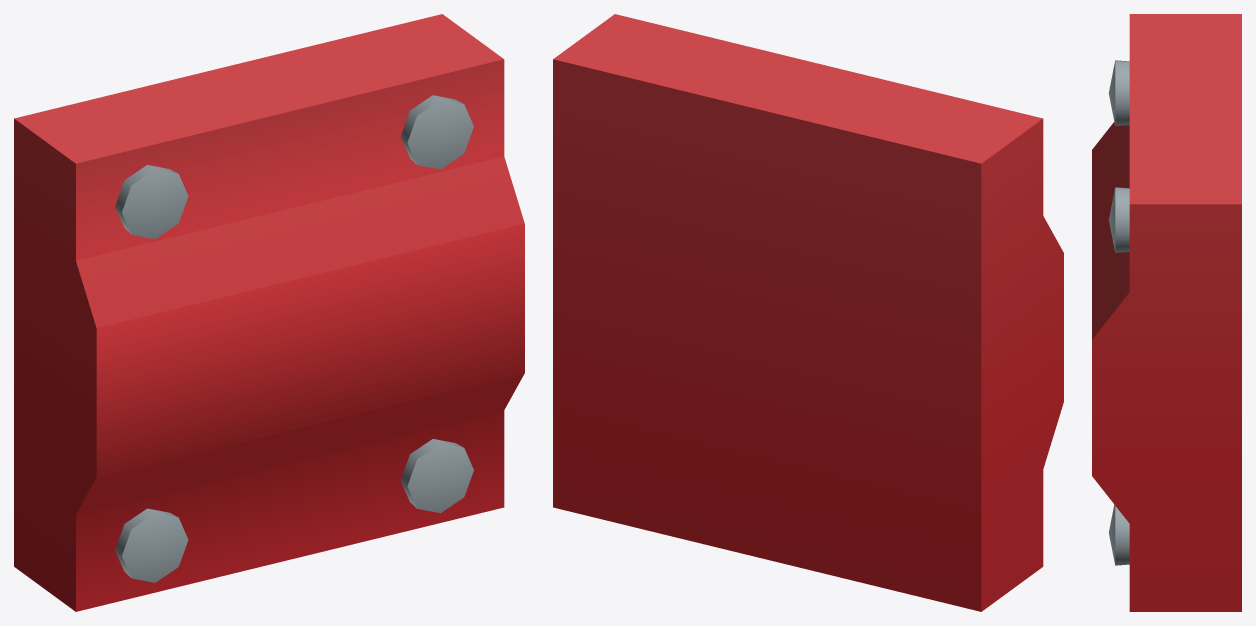
Rendered from bracing_medium_red.glb.
The picture shows the model from 3 angles, left to right: view 1: azimuth 30°, elevation 25°; view 2: azimuth 150°, elevation 25°; view 3: azimuth 270°, elevation 25°; orthographic projection. The views are drawn at different scales.
Parts seen in each view (by area): view 1: bracing_medium_red; view 2: bracing_medium_red; view 3: bracing_medium_red.
Part boxes in pixels (x1,y1,x2,y2): bracing_medium_red: [14, 14, 524, 611]; bracing_medium_red: [553, 14, 1063, 611]; bracing_medium_red: [1092, 14, 1241, 611].
Size of the model in its own units: 0.6 by 0.6 by 0.2.
1 material, 1 textured.
